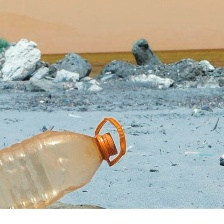bottle: (0, 115, 128, 211)
